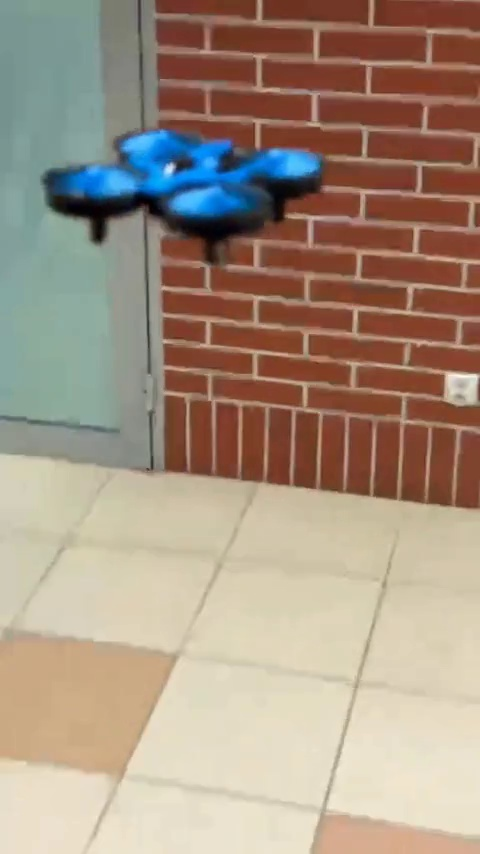drone: (38, 130, 322, 255)
